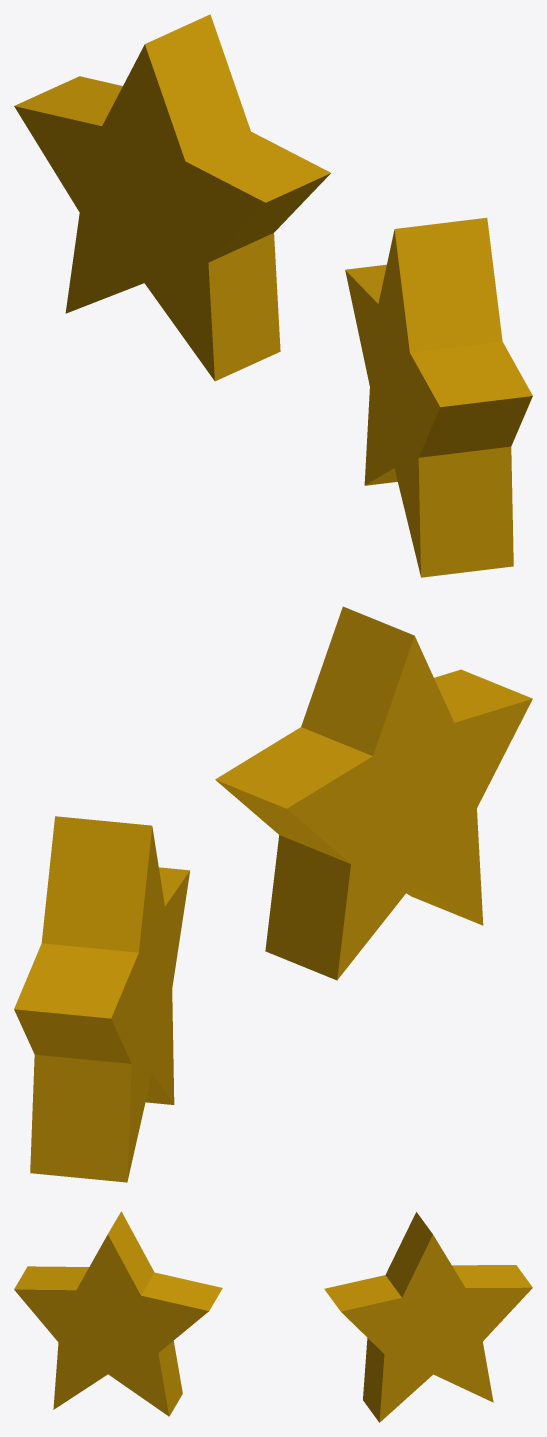
The model's file is eyes2.obj.
3 renders of one model, top to bottom at view 1: azimuth 30°, elevation 25°; view 2: azimuth 150°, elevation 25°; view 3: azimuth 270°, elevation 25°, orthographic. The views are drawn at different scales.
Visible parts, largest first — view 1: eyes2_Plane; view 2: eyes2_Plane; view 3: eyes2_Plane.
Boxes of the visible parts, <box> form: eyes2_Plane: <box>14,14,532,577</box>; eyes2_Plane: <box>14,606,532,1182</box>; eyes2_Plane: <box>14,1211,532,1422</box>.
Size of the model in its own units: 0.3132 by 0.5538 by 1.44.
